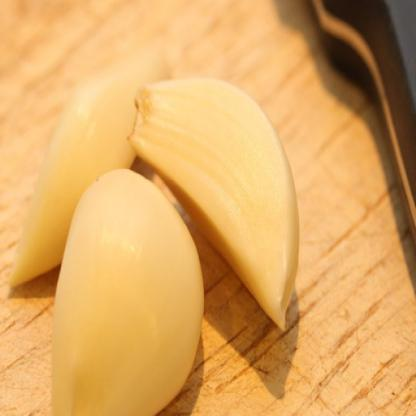knife: (225, 0, 415, 415)
